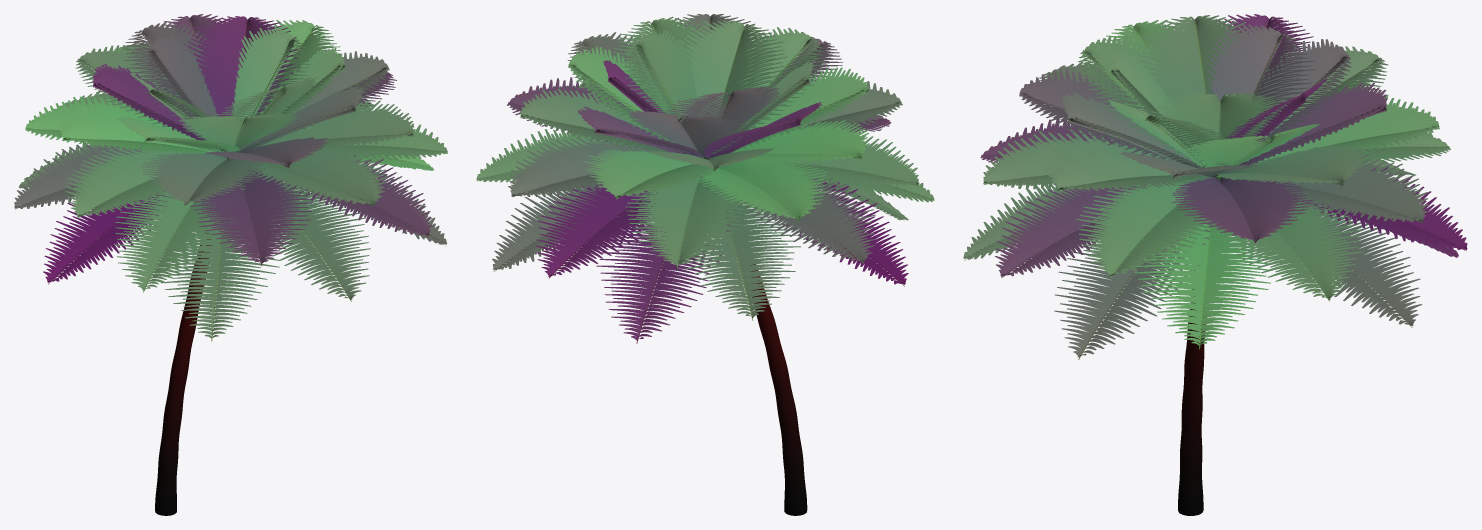
Rendered from SM_Palm_Coconut_01.fbx.
3 renders of one model, left to right at view 1: azimuth 30°, elevation 25°; view 2: azimuth 150°, elevation 25°; view 3: azimuth 270°, elevation 25°, orthographic. The views are drawn at different scales.
Visible parts, largest first — view 1: SM_Palm_Coconut_01; view 2: SM_Palm_Coconut_01; view 3: SM_Palm_Coconut_01.
Boxes of the visible parts, <box> form: SM_Palm_Coconut_01: <box>14,14,447,515</box>; SM_Palm_Coconut_01: <box>476,14,934,515</box>; SM_Palm_Coconut_01: <box>963,14,1467,515</box>.
Bounding box in the file's own units: 810 × 873 × 808.
